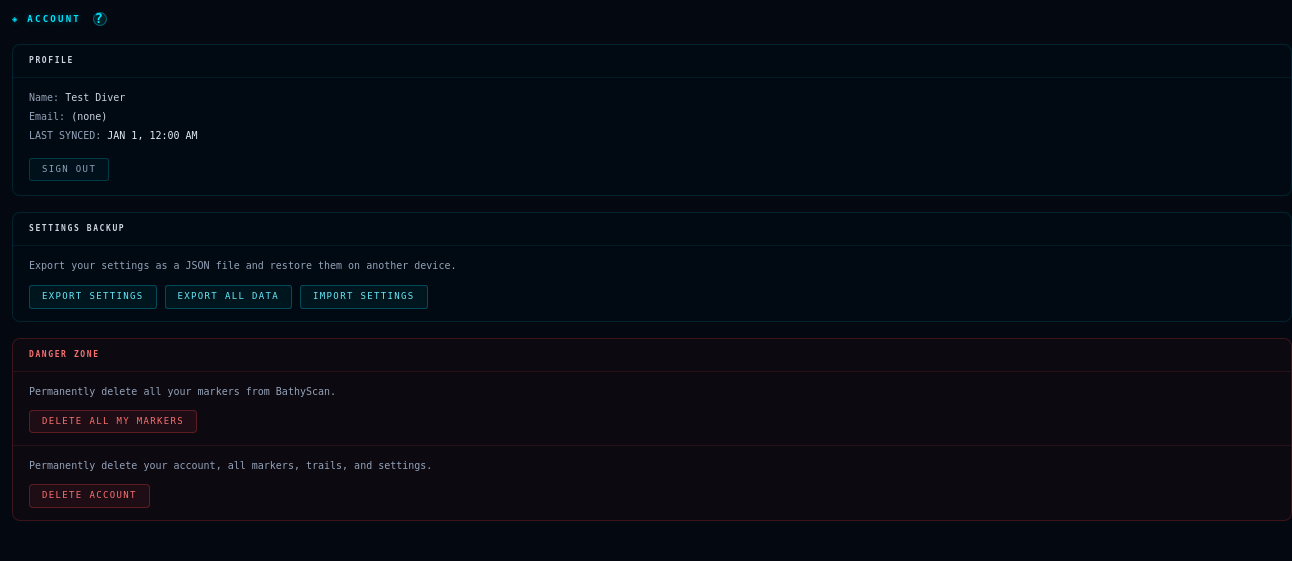
Test: export settings › (d) export button re-enables and shows an error when the download throws
The width and height of the screenshot is (1292, 561).
Click the button with test id "export-settings-btn" at (93, 297), box [29,285,156,309]
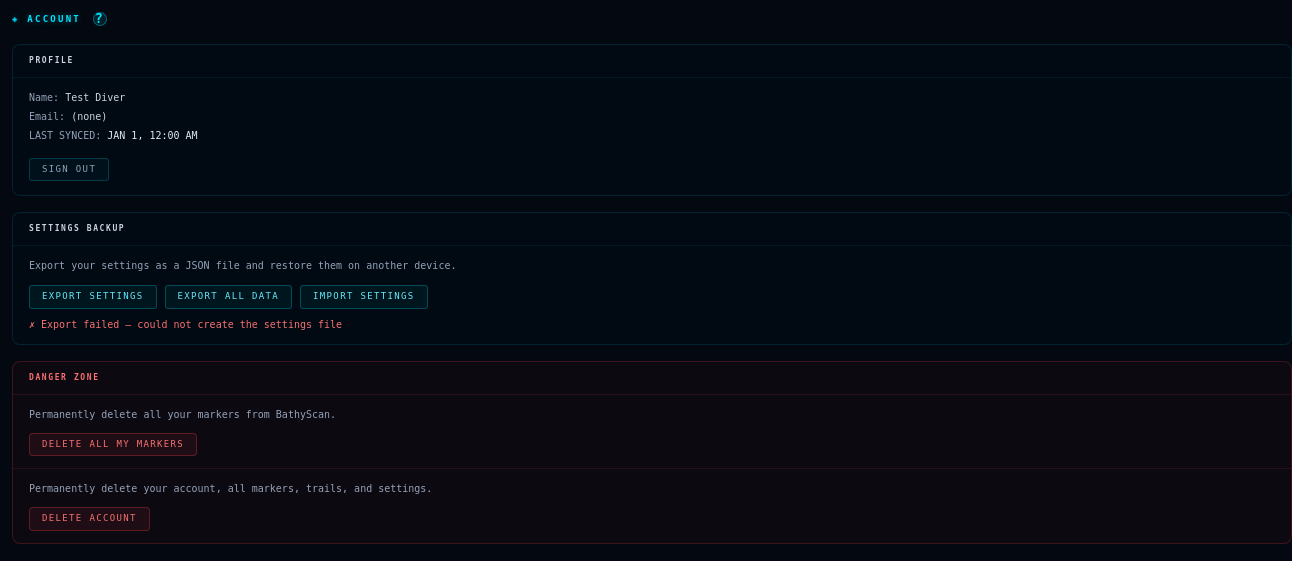
Now the text with test id "export-settings-msg" shows "Export failed", box [29,319,342,330]
Click the button with test id "export-settings-btn" at (93, 297), box [29,285,156,309]
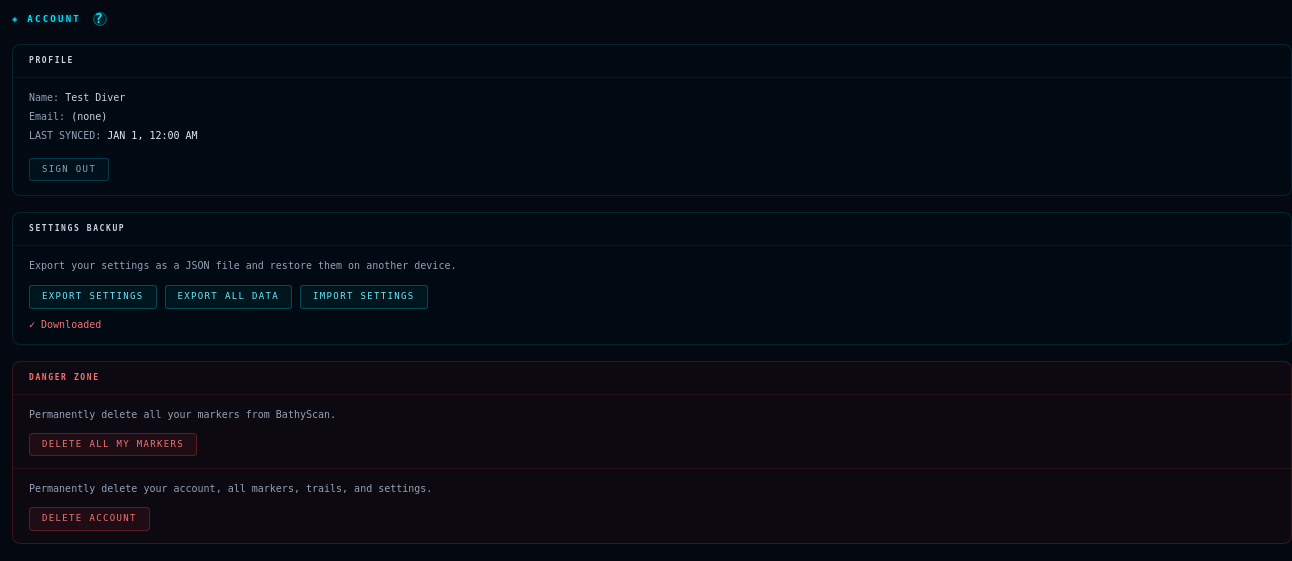
Now the text with test id "export-settings-msg" reads "✓ Downloaded", box [29,319,101,330]
